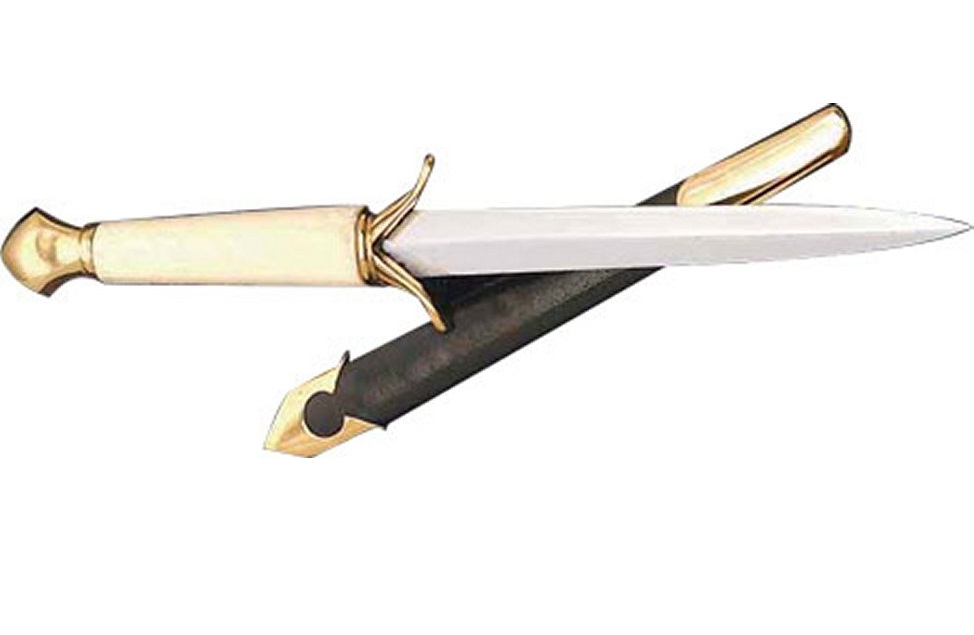knife: (439, 175, 974, 297)
